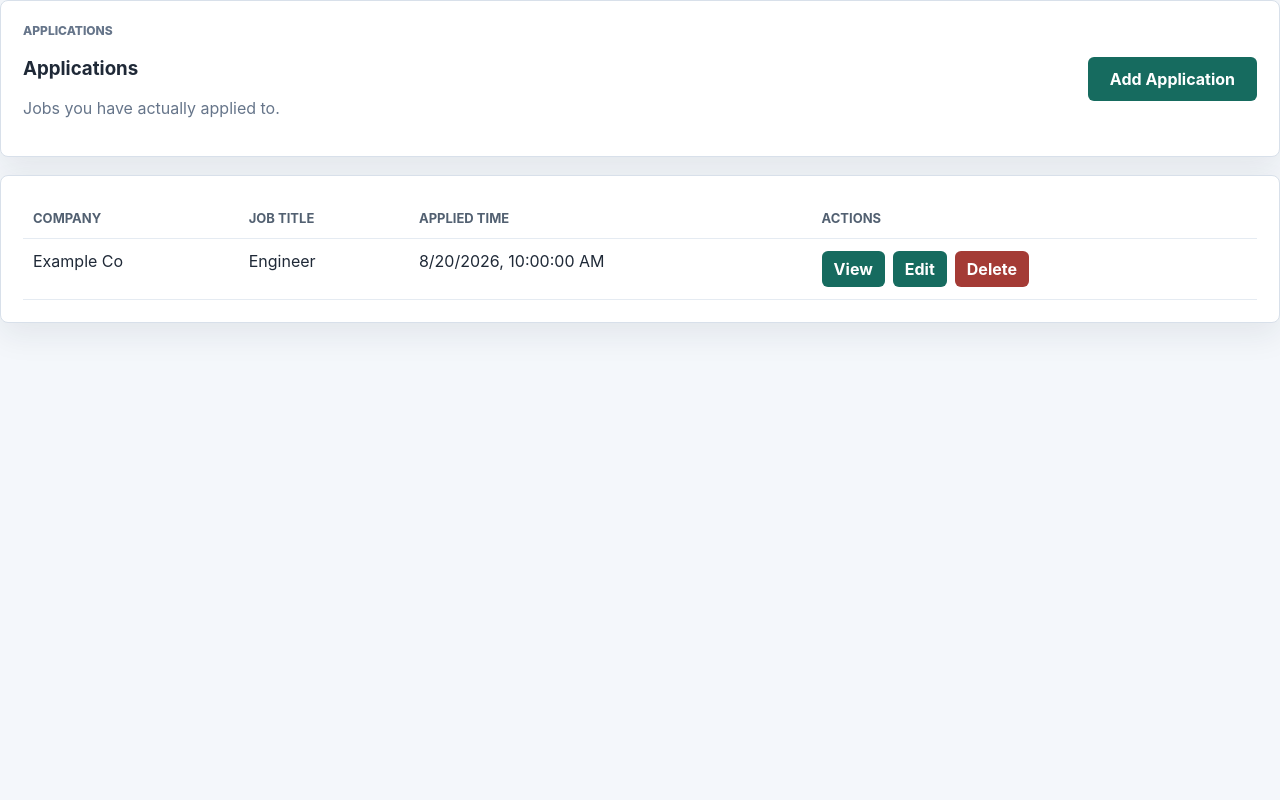
Test case: Version 2.2.0 Applications › lists and opens full Application details
Expected: the text "Example Co" is shown, [23,239,239,300]
Step 1. Click the button "View" → x=853, y=269, box [822,251,885,287]
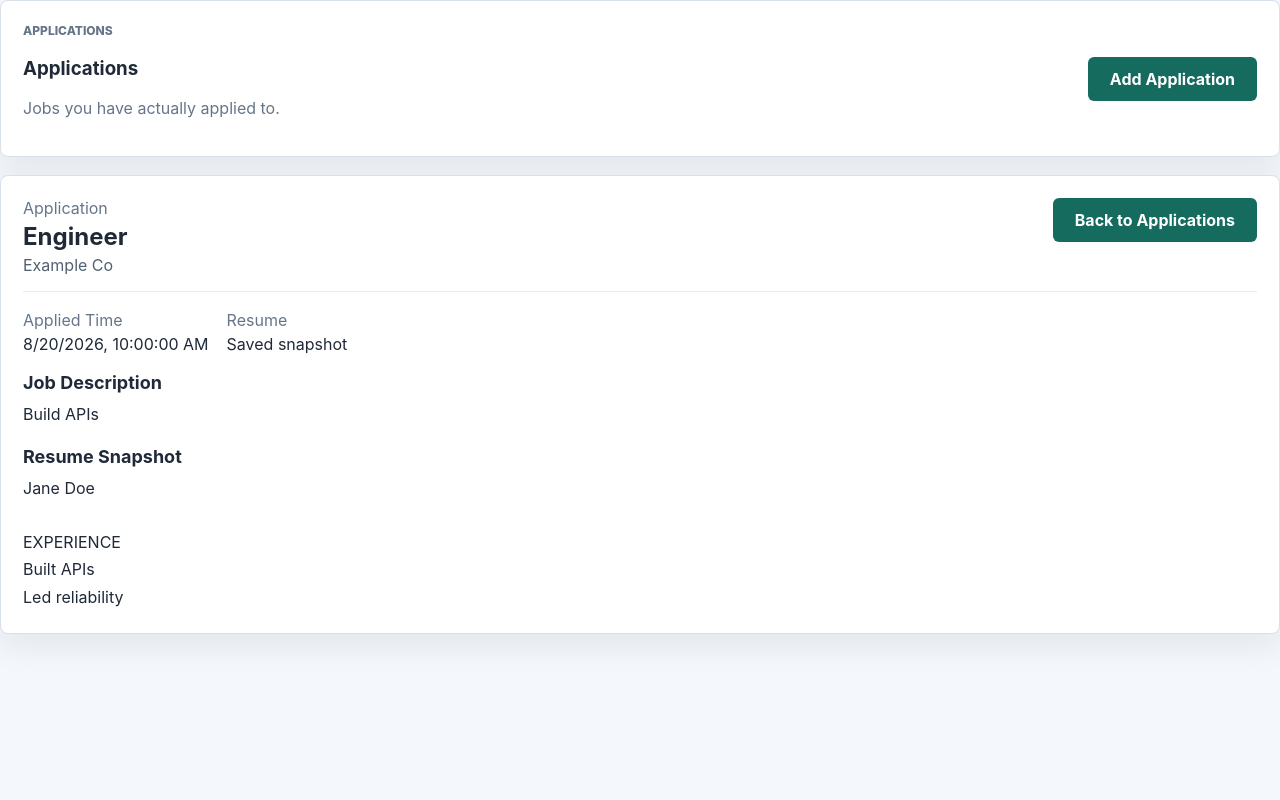
Now the text "Build APIs" is shown, box [23,404,99,424]
